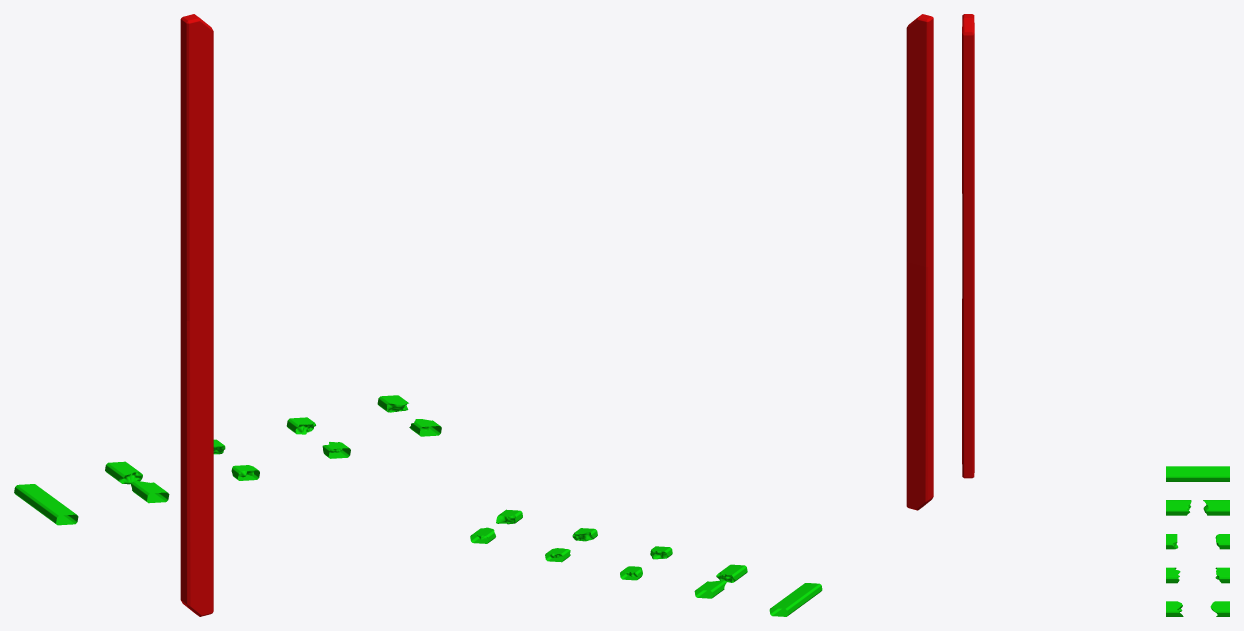
File: BAKE_Ladder_Broken_high.fbx
3 views of the same model, side by side, from view 1: azimuth 30°, elevation 25°; view 2: azimuth 150°, elevation 25°; view 3: azimuth 270°, elevation 25° (orthographic). The views are drawn at different scales.
Parts seen in each view (by area): view 1: normal12; view 2: normal12; view 3: normal12.
Part boxes in pixels (box(x1,y1,x2,y2)): normal12: box(14, 14, 441, 616); normal12: box(470, 14, 933, 616); normal12: box(962, 14, 1229, 616).
Bounding box in the file's own units: 214 × 318 × 168.
